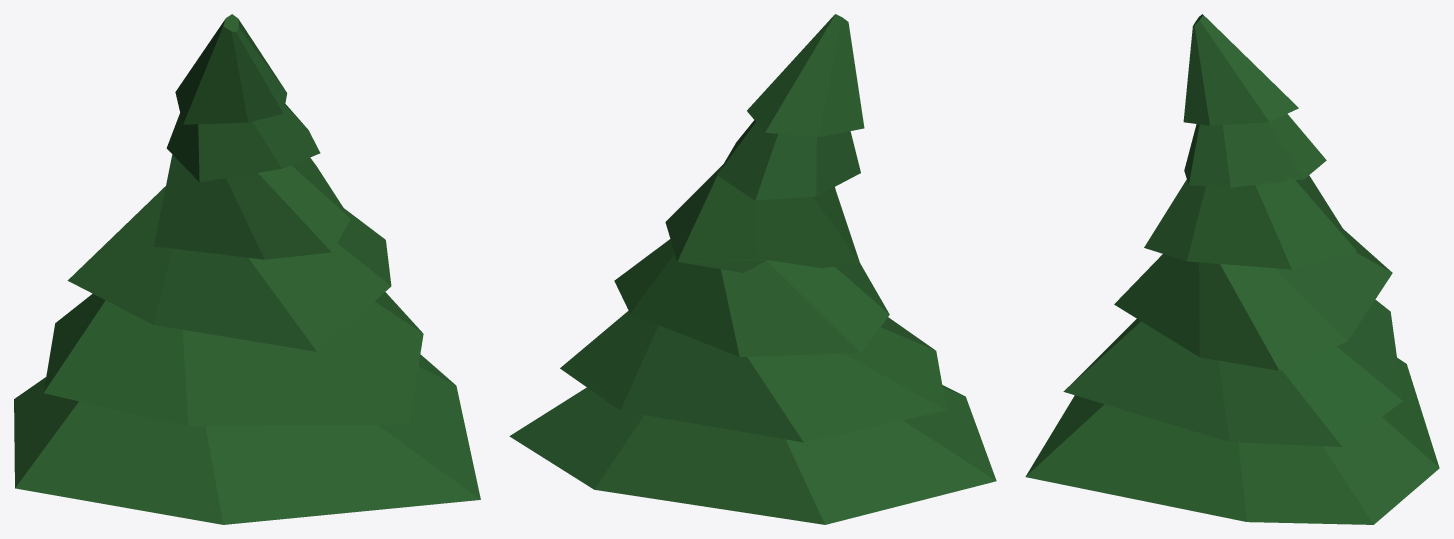
File: Tree8.glb
3 views of the same model, side by side, from view 1: azimuth 30°, elevation 25°; view 2: azimuth 150°, elevation 25°; view 3: azimuth 270°, elevation 25° (orthographic). The views are drawn at different scales.
Visible parts, largest first — view 1: Tree10; view 2: Tree10; view 3: Tree10.
Boxes of the visible parts, <box> form: Tree10: <box>14,14,480,524</box>; Tree10: <box>509,14,996,524</box>; Tree10: <box>1025,14,1439,524</box>.
Bounding box in the file's own units: 3.72 × 4.02 × 3.33.
